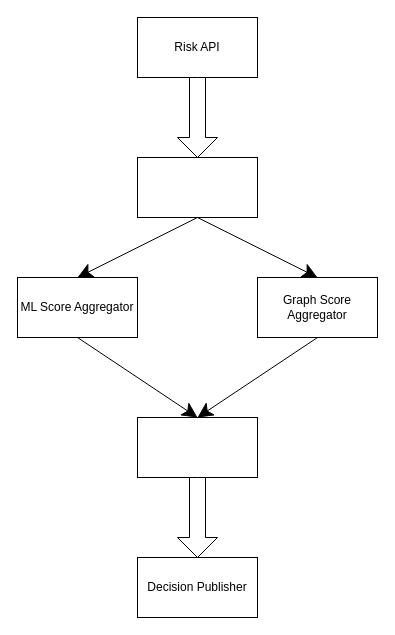
This 395x635 diagram has some shape labels left out. The centre of each missing label's shape, as x and y in pixels:
"Decision Engine" belongs at pixel 197 447.
"Rule Score Aggregator" belongs at pixel 197 187.
